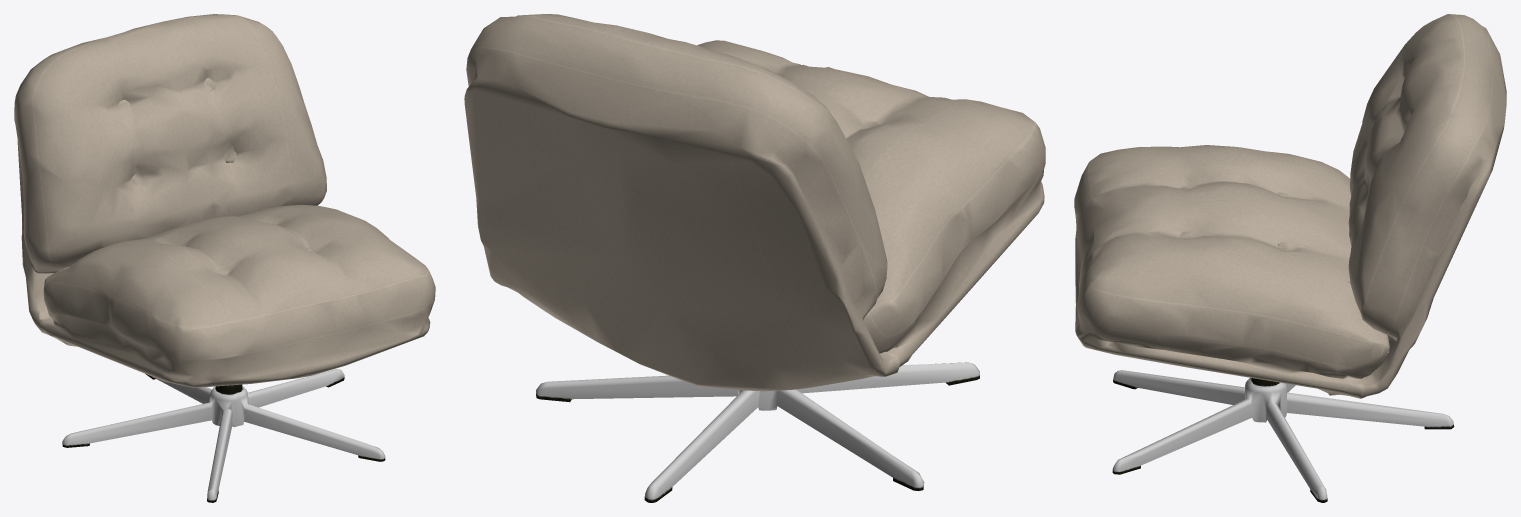
Rendered from dyvlinge_fotel_obrotowy_00623862.glb.
The picture shows the model from 3 angles, left to right: view 1: azimuth 30°, elevation 25°; view 2: azimuth 150°, elevation 25°; view 3: azimuth 270°, elevation 25°; orthographic projection. The views are drawn at different scales.
Visible parts, largest first — view 1: dyvlinge_fotel_obrotowy_00623862; view 2: dyvlinge_fotel_obrotowy_00623862; view 3: dyvlinge_fotel_obrotowy_00623862.
Boxes of the visible parts, x1,y1,x2,y2 form: dyvlinge_fotel_obrotowy_00623862: (14, 14, 435, 502); dyvlinge_fotel_obrotowy_00623862: (464, 14, 1045, 502); dyvlinge_fotel_obrotowy_00623862: (1074, 14, 1506, 502).
Size of the model in its own units: 0.6394 by 0.7145 by 0.7494.
1 material, 1 textured.
